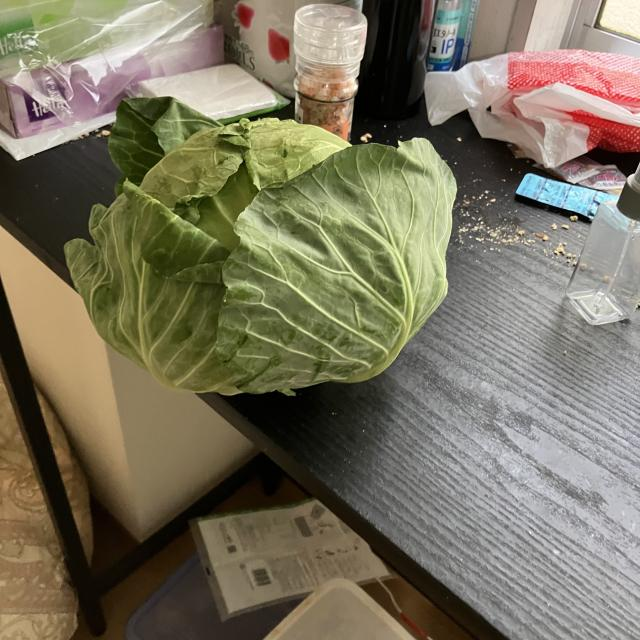cabbage: (59, 92, 460, 401)
